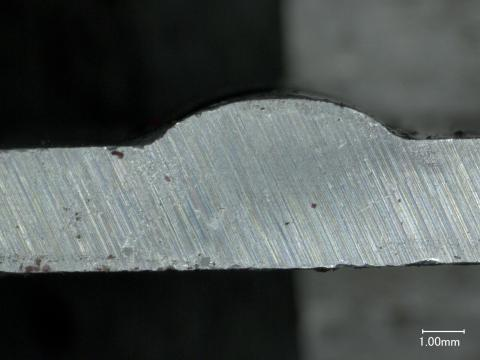test: (144, 98, 402, 147)
